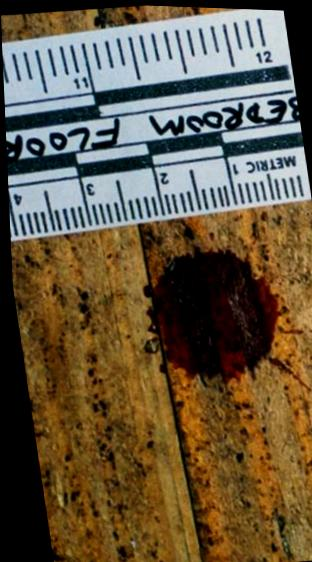Fire: (140, 245, 299, 387)
